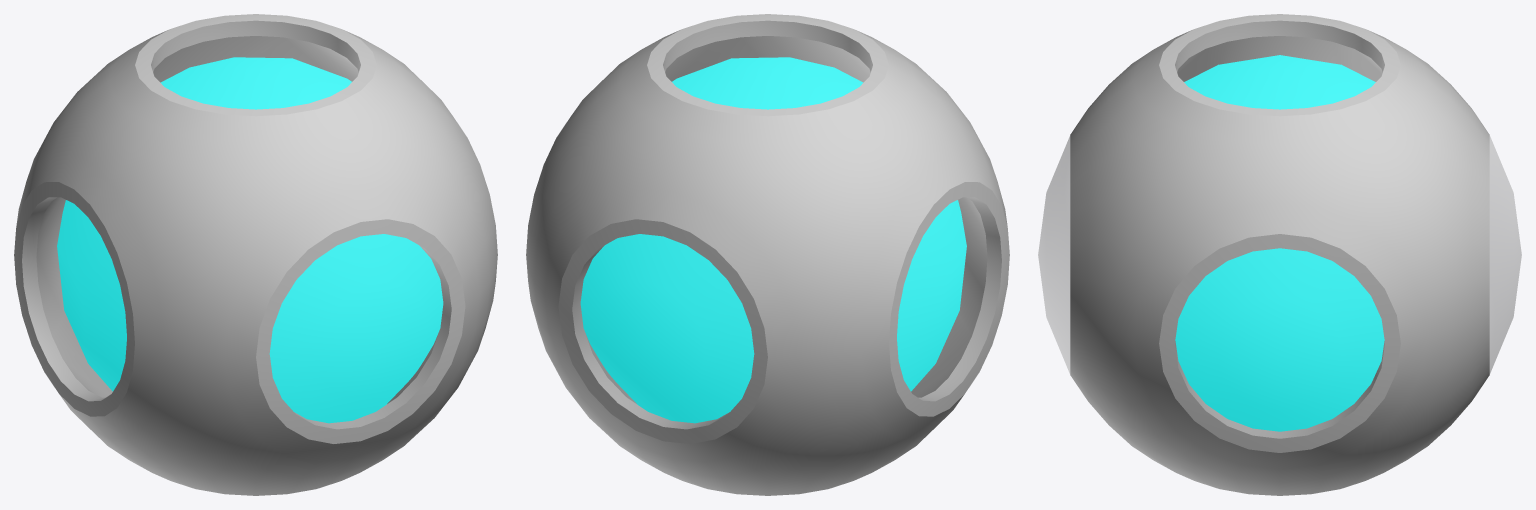
The model's file is LightBall.fbx.
The picture shows the model from 3 angles, left to right: view 1: azimuth 30°, elevation 25°; view 2: azimuth 150°, elevation 25°; view 3: azimuth 270°, elevation 25°; orthographic projection.
Visible parts, largest first — view 1: LightBall; view 2: LightBall; view 3: LightBall.
Part boxes in pixels (<box>): LightBall: <box>14,14,497,495</box>; LightBall: <box>526,14,1009,495</box>; LightBall: <box>1038,14,1521,495</box>.
Bounding box in the file's own units: 1 × 1 × 1.
